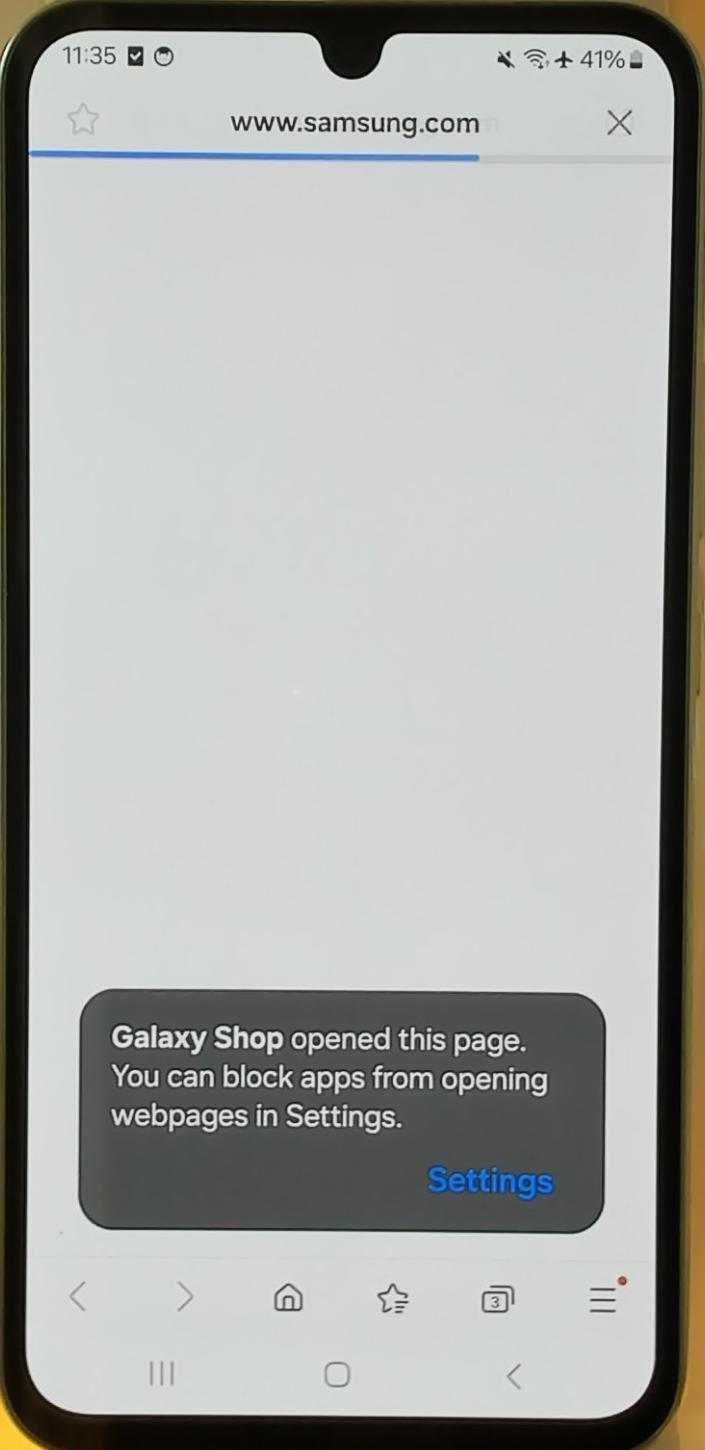CommunBotton: (404, 1150, 576, 1208), (304, 1352, 372, 1398), (154, 1268, 206, 1320), (262, 1272, 314, 1320), (478, 1272, 524, 1326), (56, 1262, 94, 1322), (372, 1266, 414, 1320), (138, 1350, 186, 1392), (598, 102, 640, 148), (490, 1354, 534, 1396)
menu: (570, 1262, 638, 1334)
